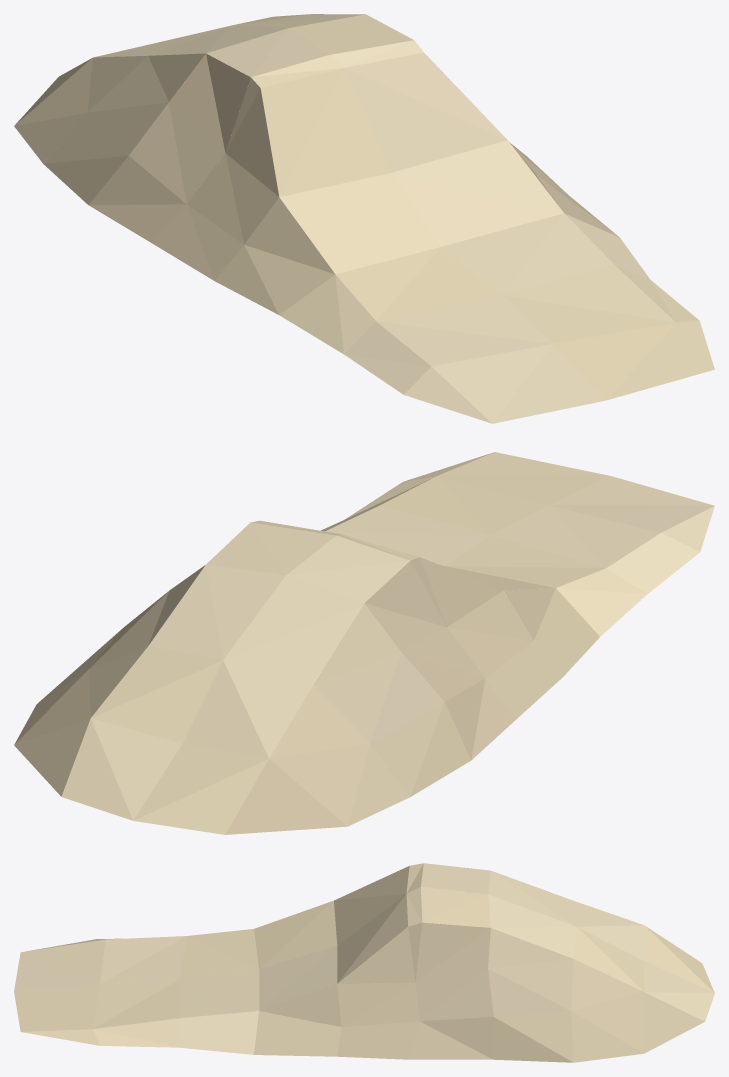
File: dhil.glb
The picture shows the model from 3 angles, top to bottom: view 1: azimuth 30°, elevation 25°; view 2: azimuth 150°, elevation 25°; view 3: azimuth 270°, elevation 25°; orthographic projection. The views are drawn at different scales.
Visible parts, largest first — view 1: dhil; view 2: dhil; view 3: dhil.
Part boxes in pixels (x1,y1,x2,y2): dhil: [14, 14, 714, 423]; dhil: [14, 452, 714, 834]; dhil: [14, 863, 714, 1062].
Bounding box in the file's own units: 23 × 8.1 × 49.09.
